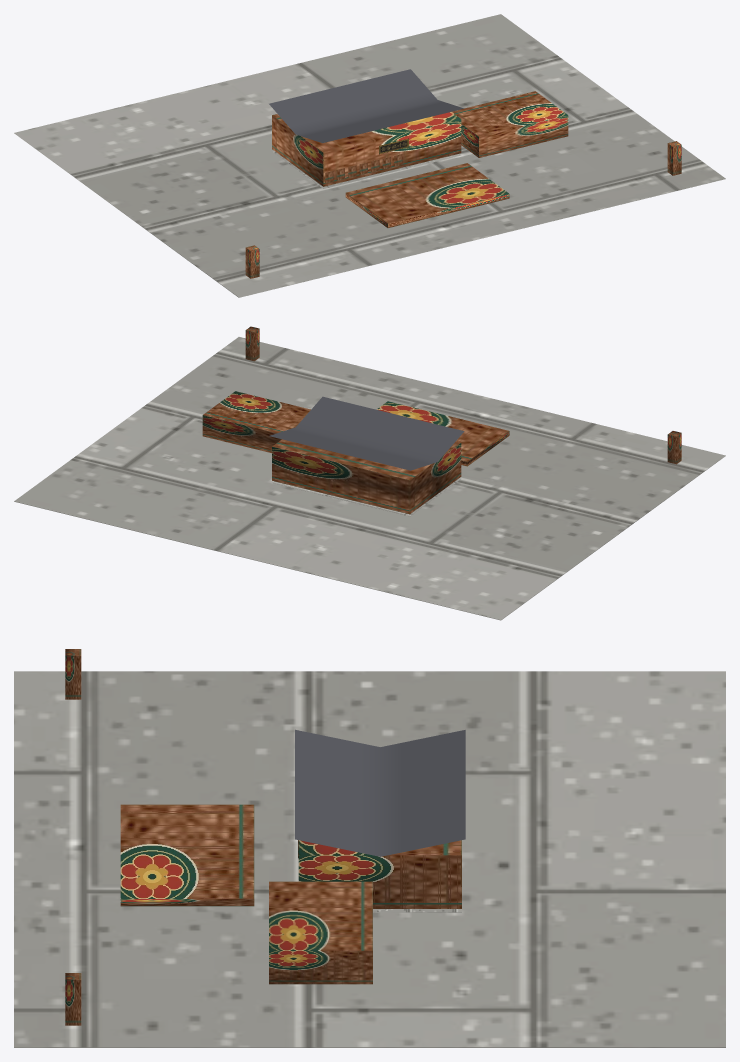
The picture shows the model from 3 angles, top to bottom: view 1: azimuth 30°, elevation 25°; view 2: azimuth 150°, elevation 25°; view 3: azimuth 270°, elevation 25°; orthographic projection. The views are drawn at different scales.
Visible parts, largest first — view 1: 11710_01_05540_017_01_L2__base, 11710_01_05540_017_02_L2__body, 11710_01_05540_017_03_L2__roof, 11710_01_05540_017_06_L2__green, 11710_01_05540_017_05_L2__openings; view 2: 11710_01_05540_017_01_L2__base, 11710_01_05540_017_02_L2__body, 11710_01_05540_017_03_L2__roof, 11710_01_05540_017_06_L2__green; view 3: 11710_01_05540_017_01_L2__base, 11710_01_05540_017_02_L2__body, 11710_01_05540_017_03_L2__roof, 11710_01_05540_017_06_L2__green.
Part boxes in pixels (x1=…): 11710_01_05540_017_01_L2__base: x1=14, y1=14, x2=725, y2=297; 11710_01_05540_017_02_L2__body: x1=272, y1=91, x2=568, y2=227; 11710_01_05540_017_03_L2__roof: x1=269, y1=69, x2=463, y2=143; 11710_01_05540_017_06_L2__green: x1=245, y1=141, x2=681, y2=278; 11710_01_05540_017_05_L2__openings: x1=325, y1=154, x2=402, y2=183; 11710_01_05540_017_01_L2__base: x1=14, y1=337, x2=725, y2=620; 11710_01_05540_017_02_L2__body: x1=202, y1=391, x2=509, y2=514; 11710_01_05540_017_03_L2__roof: x1=269, y1=396, x2=464, y2=470; 11710_01_05540_017_06_L2__green: x1=245, y1=326, x2=681, y2=464; 11710_01_05540_017_01_L2__base: x1=14, y1=671, x2=725, y2=1047; 11710_01_05540_017_02_L2__body: x1=120, y1=804, x2=461, y2=984; 11710_01_05540_017_03_L2__roof: x1=295, y1=729, x2=465, y2=856; 11710_01_05540_017_06_L2__green: x1=65, y1=649, x2=81, y2=1025.
Bounding box in the file's own units: 120 × 11.2 × 96.
5 materials, 5 textured.
